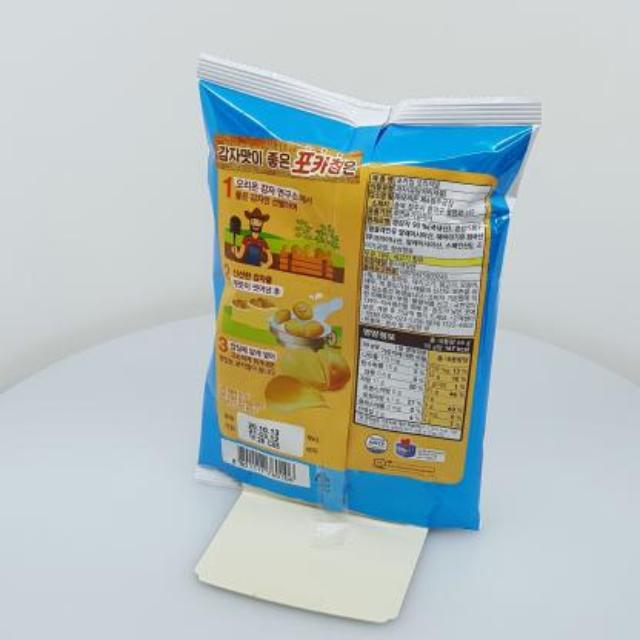snack_bag: (172, 32, 546, 548)
